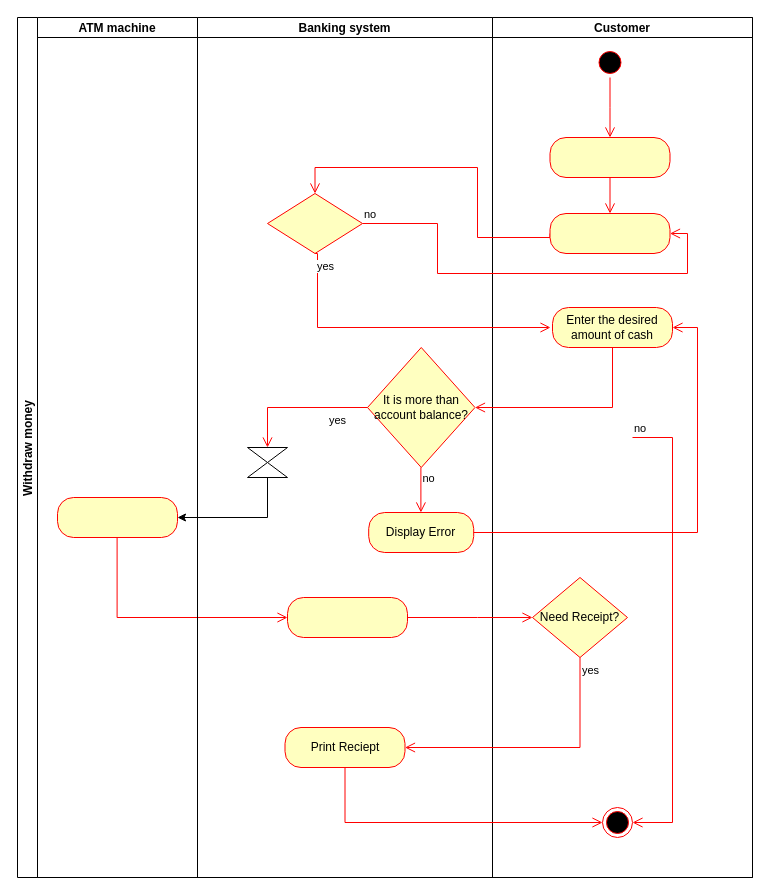
Some shapes in this 770 by 895 pixel diagram are drawn without their labels. Here are the shapes that lost their labels. From the top down, the centre of each, then its label:
At (x=609, y=157): "Insert ATM card".
At (x=314, y=223): "Is the PIN correct?".
At (x=609, y=233): "Enter PIN".
At (x=117, y=517): "Dispense Cash".
At (x=347, y=617): "Update Balance".
